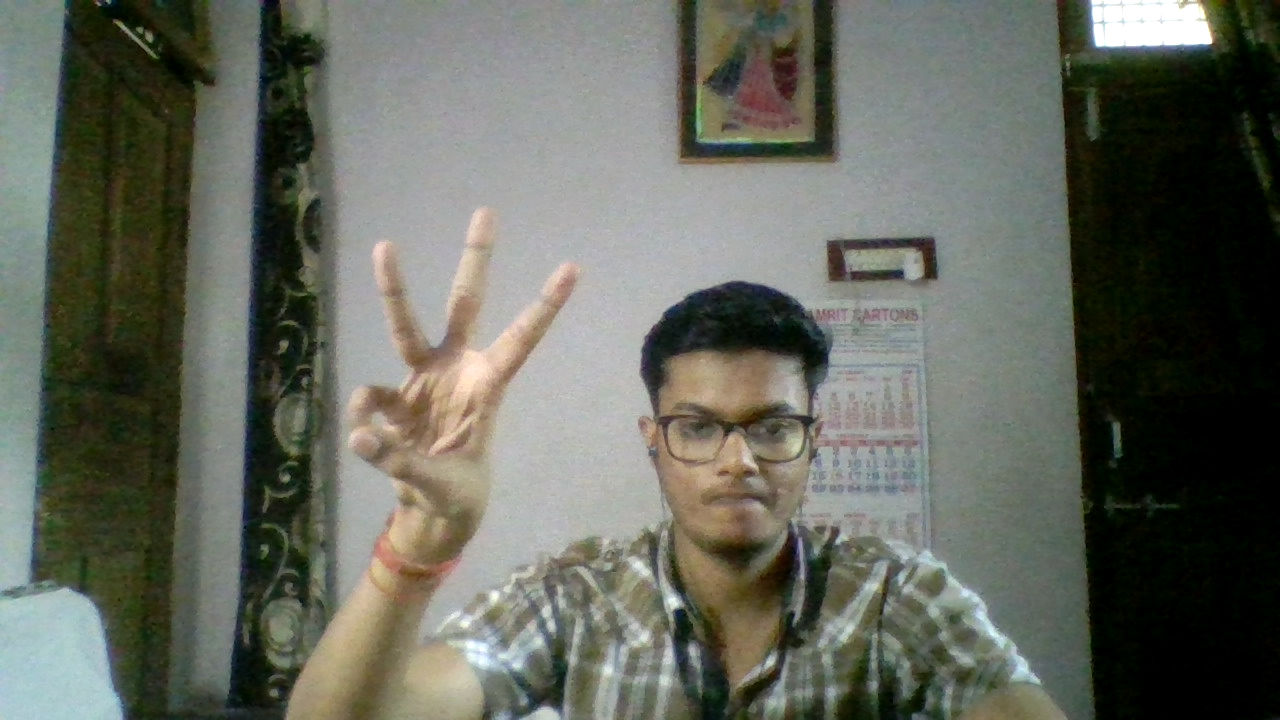three: (338, 201, 589, 624)
